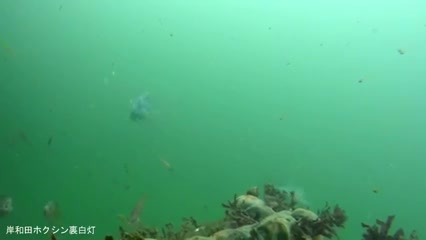smallfish: (37, 195, 68, 223)
